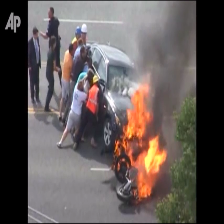fire_h: (121, 71, 168, 199)
fire_l: (116, 157, 129, 171), (114, 139, 121, 158)
